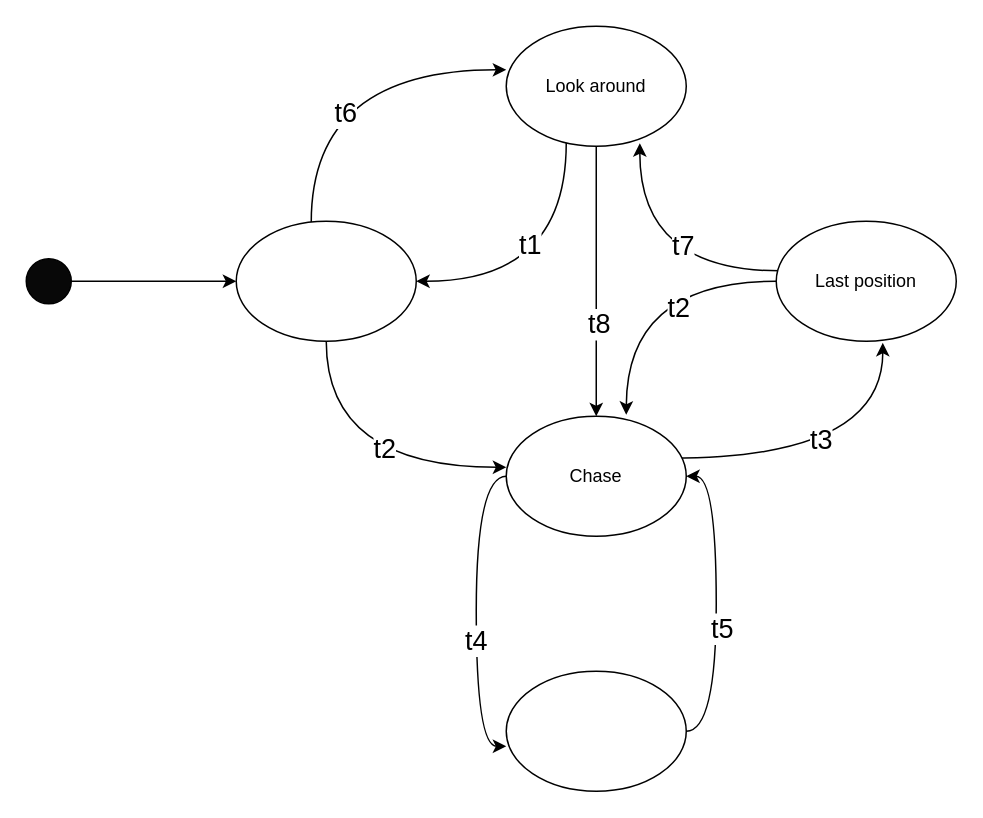
This 983x818 diagram has some shape labels left out. Each missing label, with the centre of its shape:
Attack: the point at 595,730
Patrol: the point at 325,280
